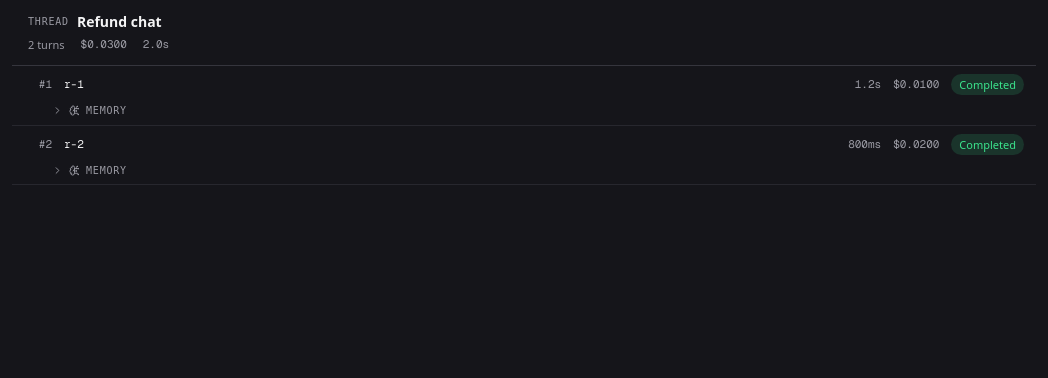
ThreadDetail › renders the ledger oldest-first with aggregates; expanding Memory fetches provenance lazily
Expected: the heading "Refund chat" is shown, [77,12,162,32]
Expected: the text "2 turns" is shown, [28,36,64,53]
Click the button "memory" below "1.2s" at (106, 111), box [12,103,1036,125]
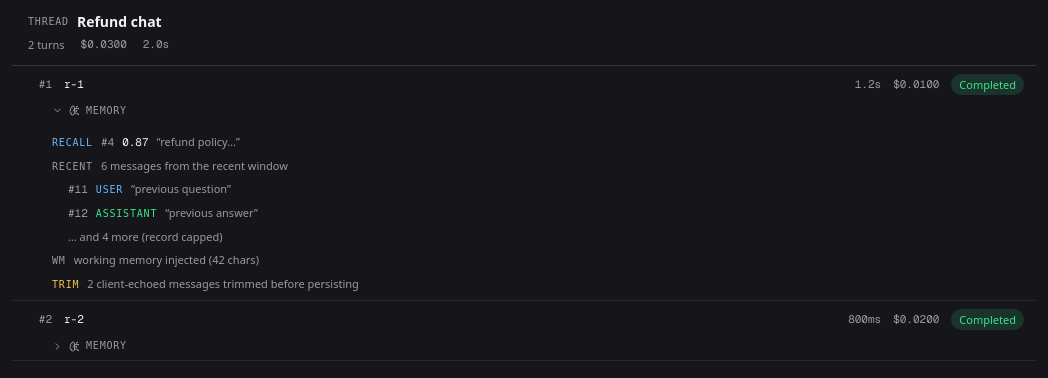
Expected: the text "“refund policy…”" is shown, [157,133,240,150]
Expected: the text "0.87" is shown, [122,134,149,151]
Expected: the text "6 messages from the recent window" is shown, [101,157,288,174]
